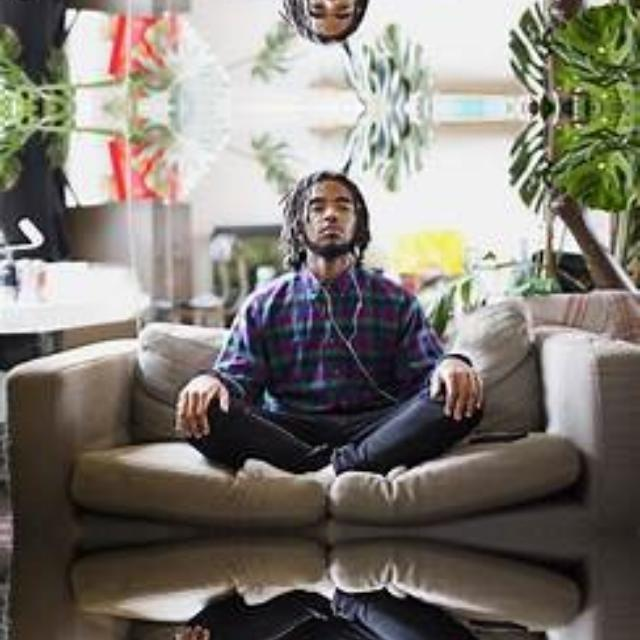person: (204, 167, 472, 457), (204, 0, 472, 47), (204, 607, 472, 640)
